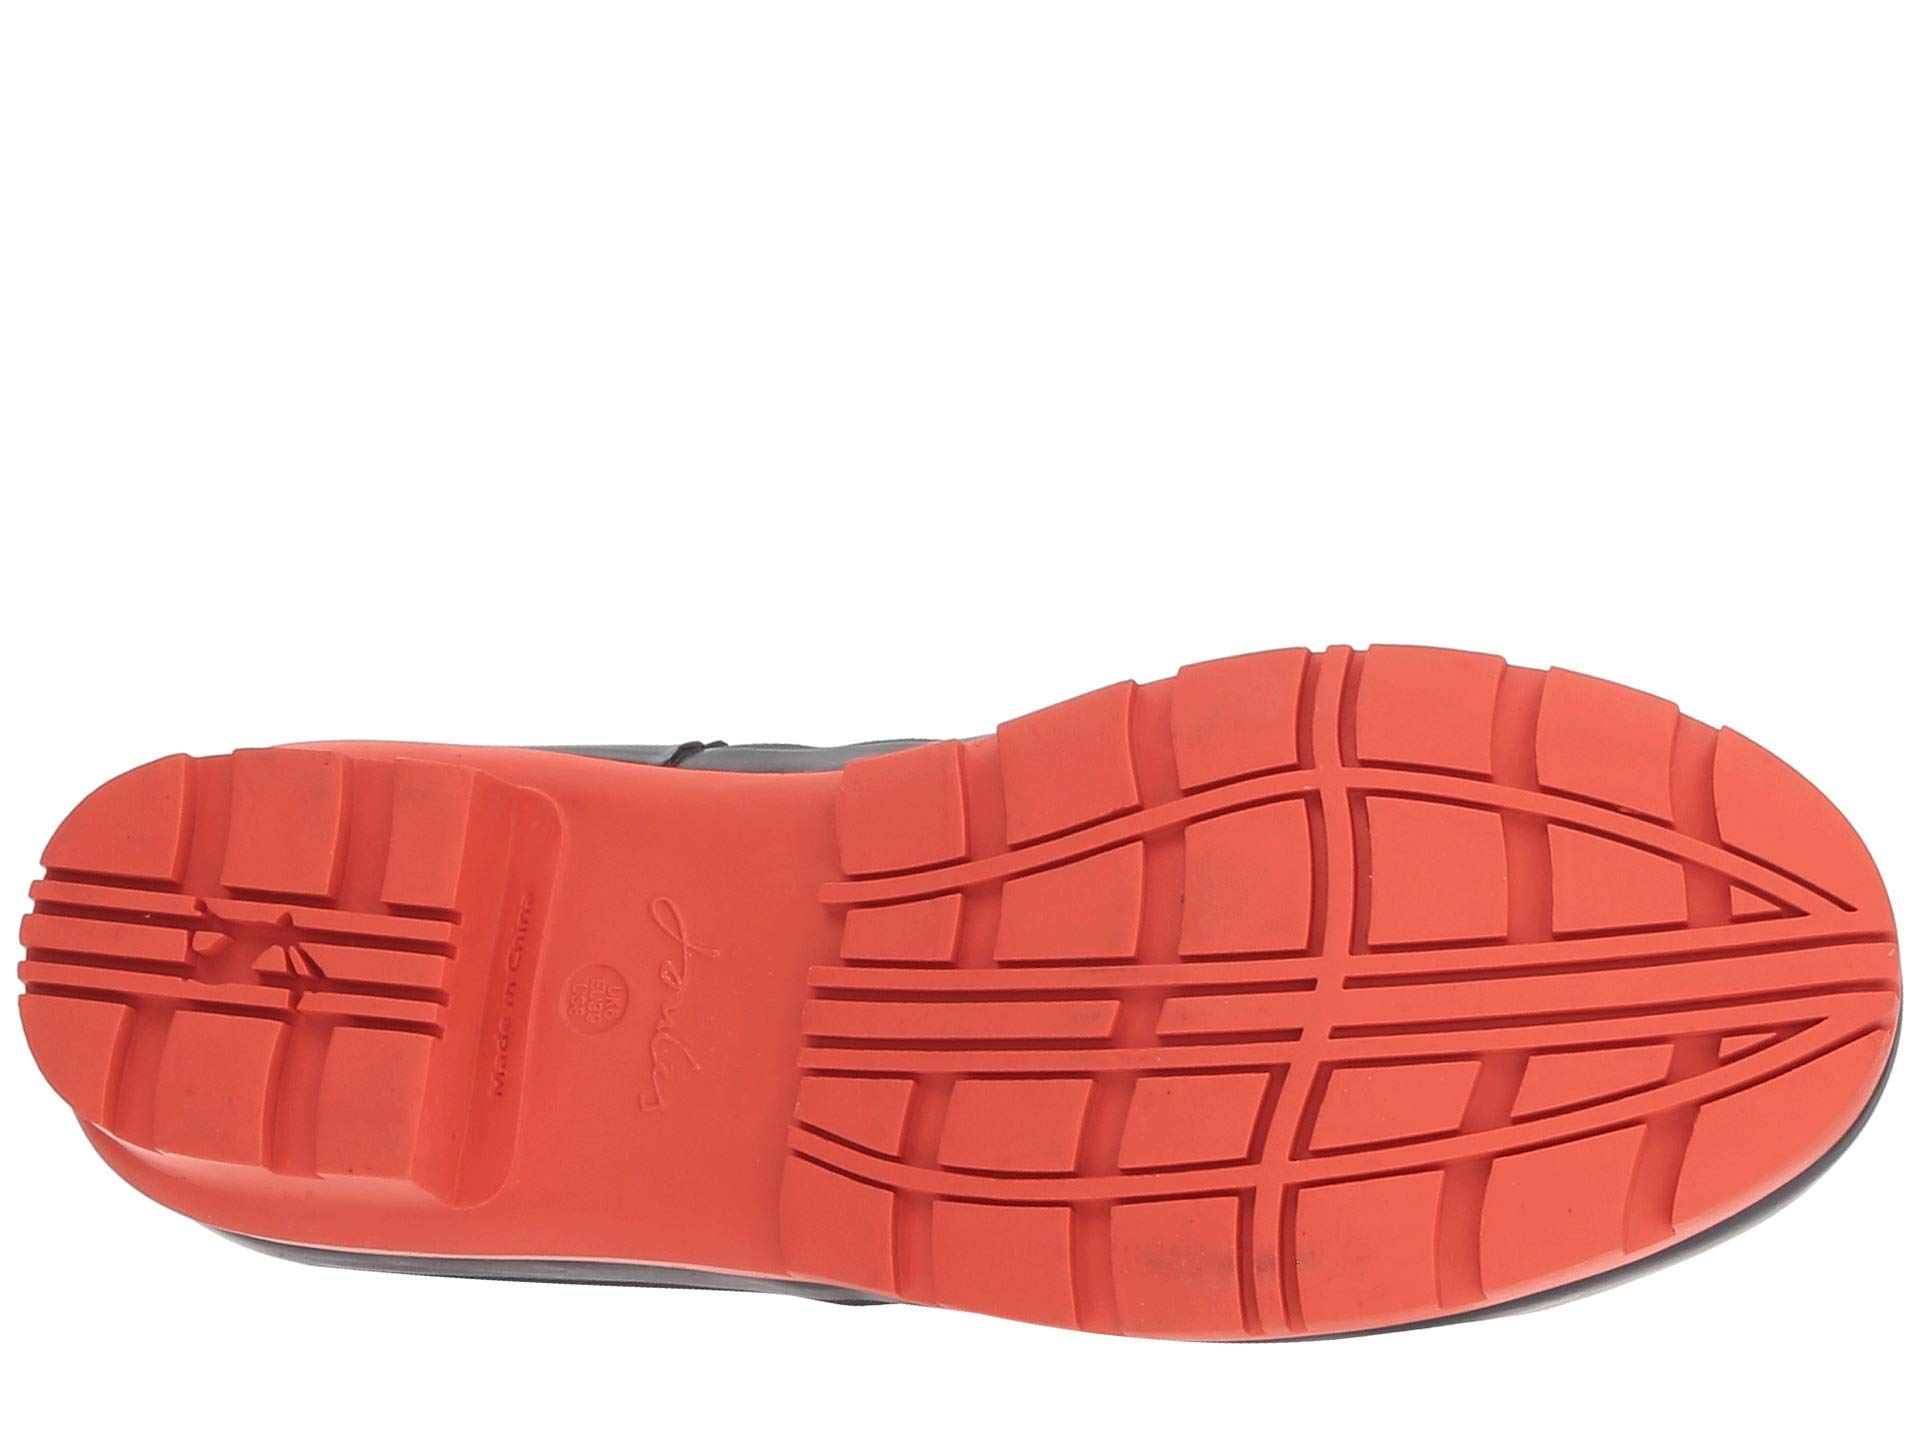circle: (556, 868, 812, 1169)
quad: (918, 774, 1488, 1278), (1541, 765, 1846, 1141)
text: (556, 868, 812, 1169)
triangle: (1541, 765, 1846, 1141)
